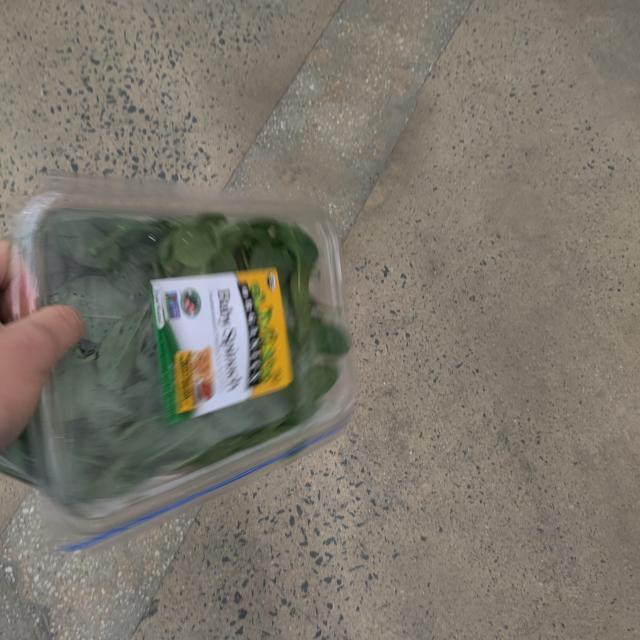Spinach: (11, 168, 372, 500)
